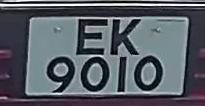0: (76, 53, 115, 96), (131, 54, 167, 95)
1: (111, 53, 134, 97)
9: (41, 53, 79, 98)
E: (66, 14, 114, 60)
K: (102, 15, 149, 60)
